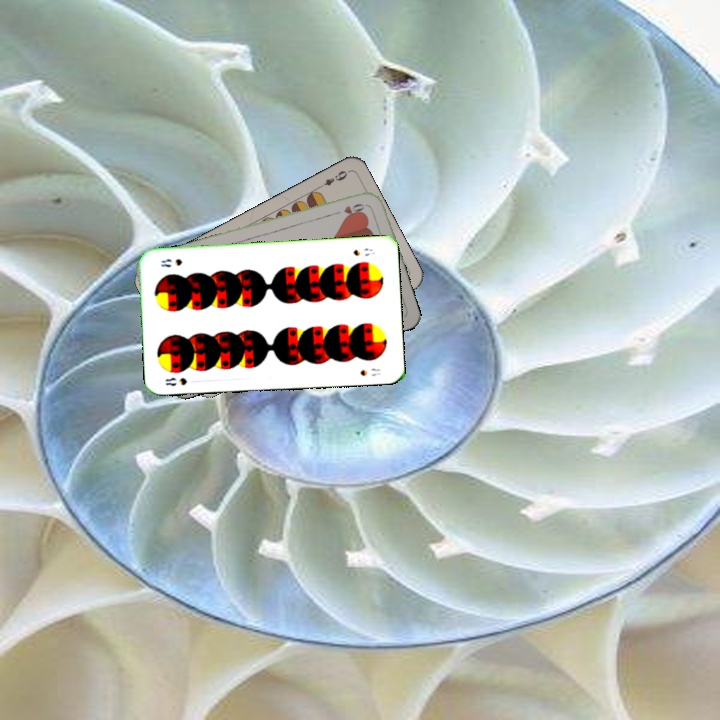E9: (314, 167, 350, 191)
HO: (329, 199, 369, 217)
S8: (161, 373, 190, 389), (349, 244, 377, 259)
